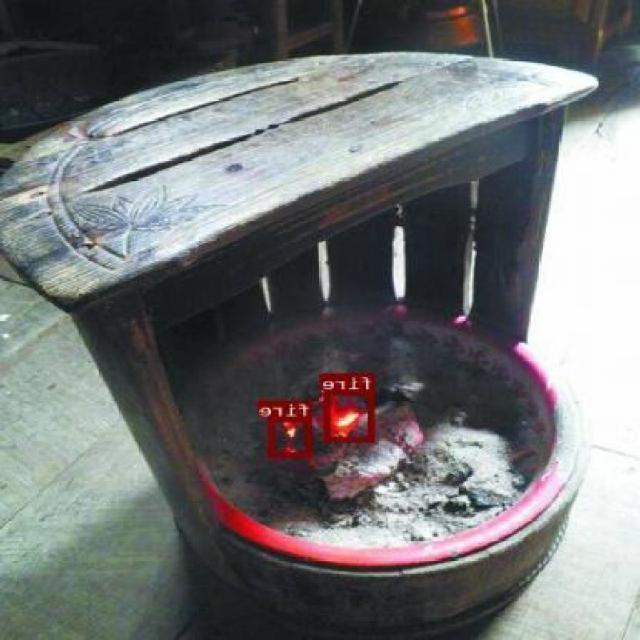Fire: (324, 390, 376, 441), (270, 416, 312, 456)
